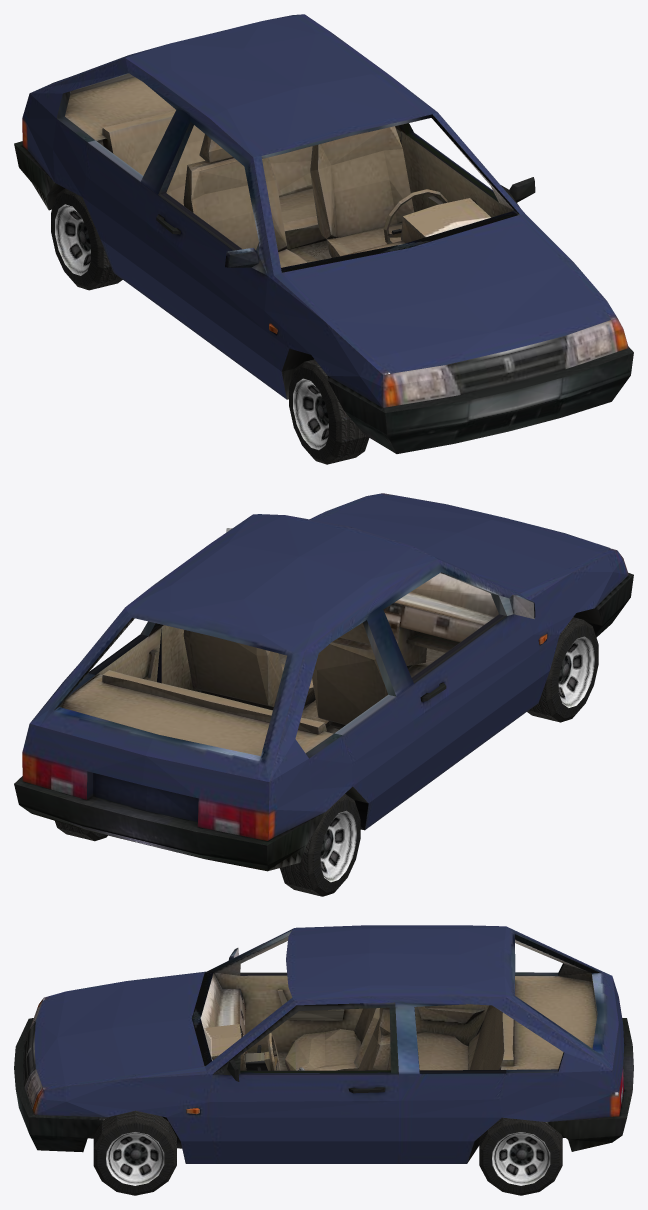
File: vaz2108.gltf
The picture shows the model from 3 angles, top to bottom: view 1: azimuth 30°, elevation 25°; view 2: azimuth 150°, elevation 25°; view 3: azimuth 270°, elevation 25°; orthographic projection. The views are drawn at different scales.
Visible parts, largest first — view 1: Body, Wheel_FR, Wheel_RR; view 2: Body, Wheel_RR, Wheel_FR; view 3: Body, Wheel_FL, Wheel_RL.
Part boxes in pixels (box(x1,y1,x2,y2)): Body: box(14, 14, 633, 453); Wheel_FR: box(289, 359, 369, 464); Wheel_RR: box(51, 188, 122, 290); Body: box(14, 493, 633, 871); Wheel_RR: box(280, 794, 360, 896); Wheel_FR: box(527, 617, 598, 722); Body: box(14, 925, 633, 1163); Wheel_FL: box(93, 1110, 176, 1195); Wheel_RL: box(479, 1117, 562, 1195).
Bounding box in the file's own units: 1.85 × 1.35 × 3.95.
1 material, 1 textured.
